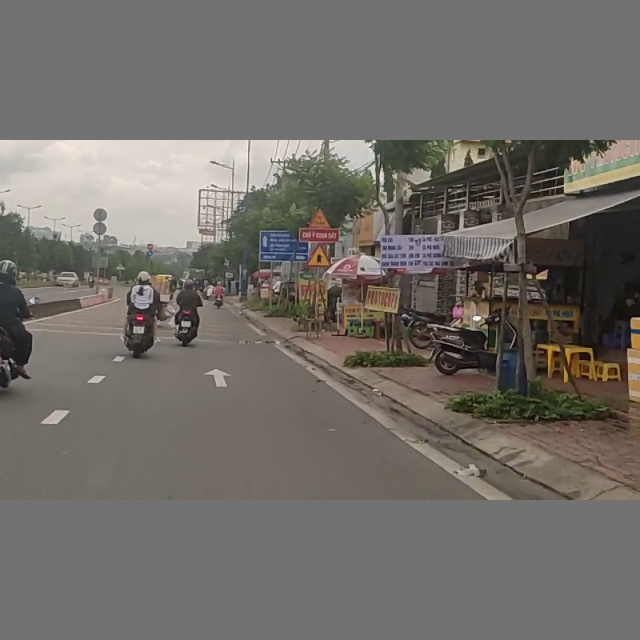W.207: (303, 243, 335, 267)
